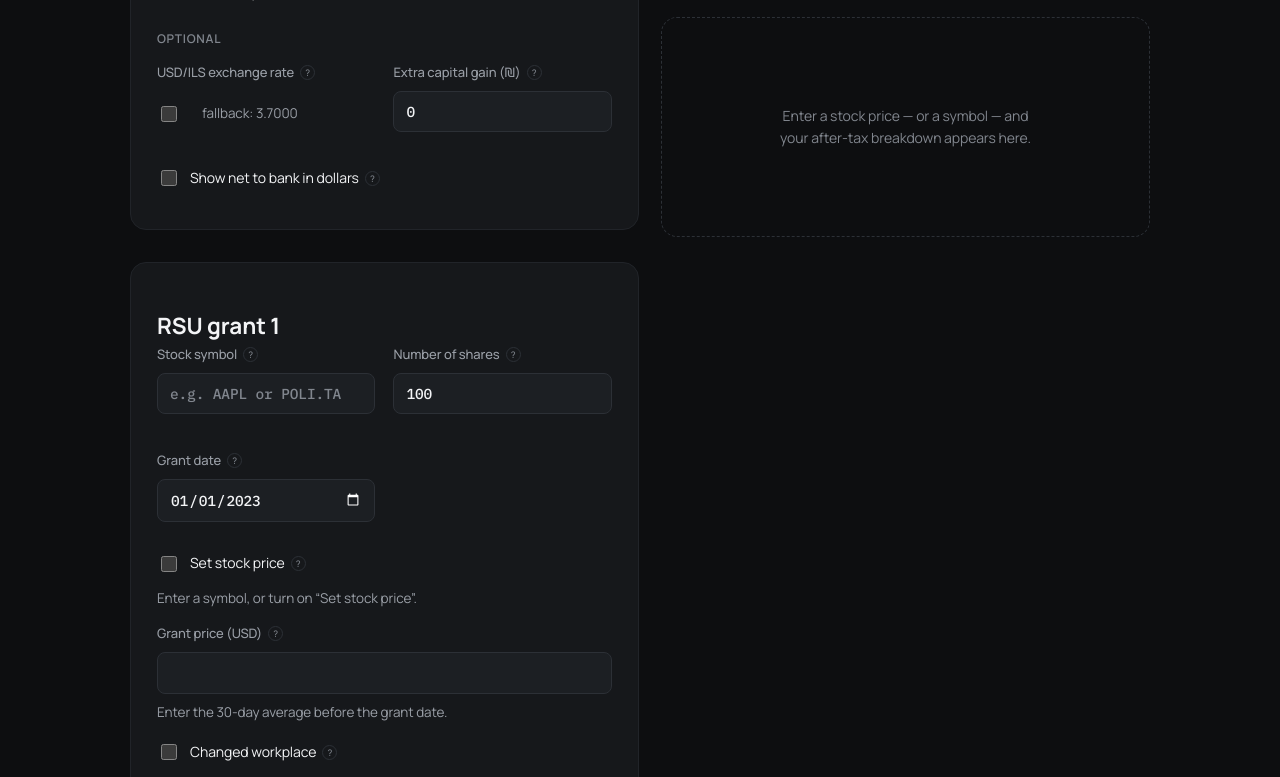
RSU: live price fetch fails › drops the price and the result as soon as the symbol is cleared
(page scrolled)
Step 1. Type "WIX" into the field labelled "Stock symbol" → (266, 394), box [157,373,376,414]
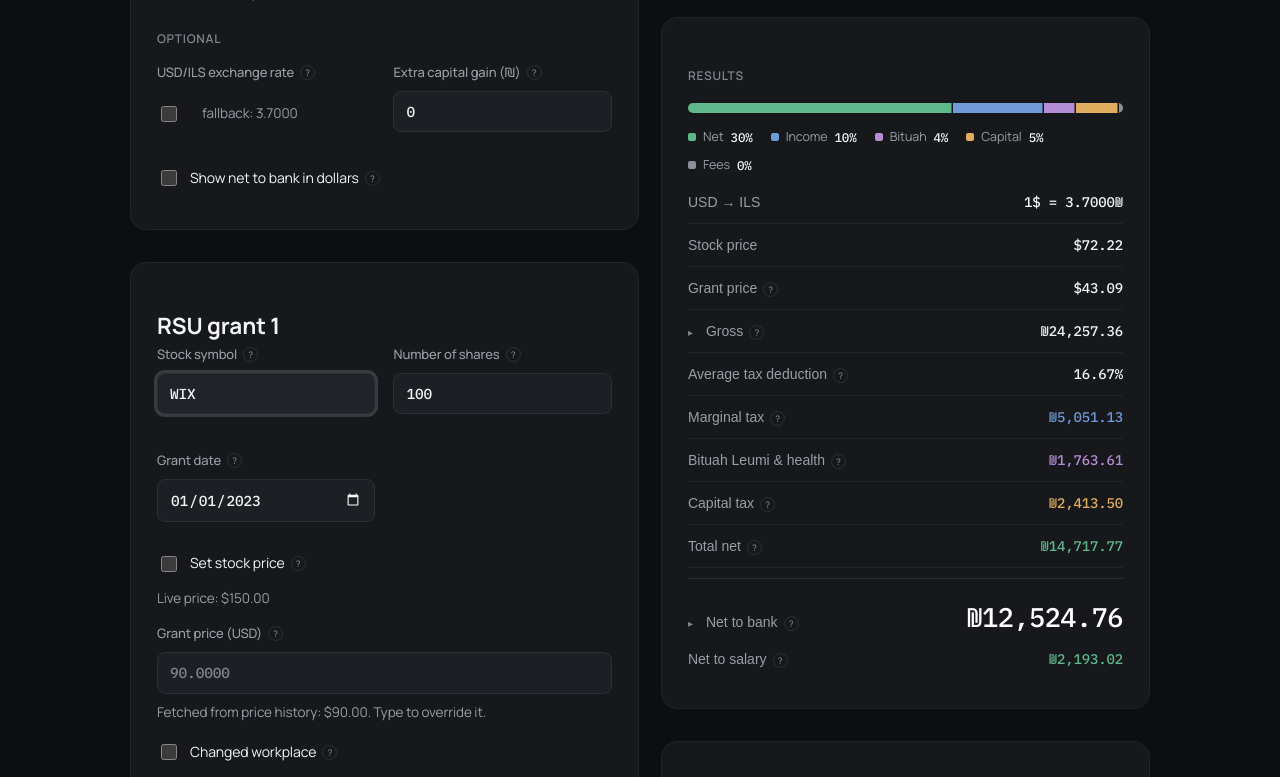
Expected: the text "Net to bank" is shown, [706,614,778,630]
Step 2. Clear the field labelled "Stock symbol" → (266, 394), box [157,373,376,414]
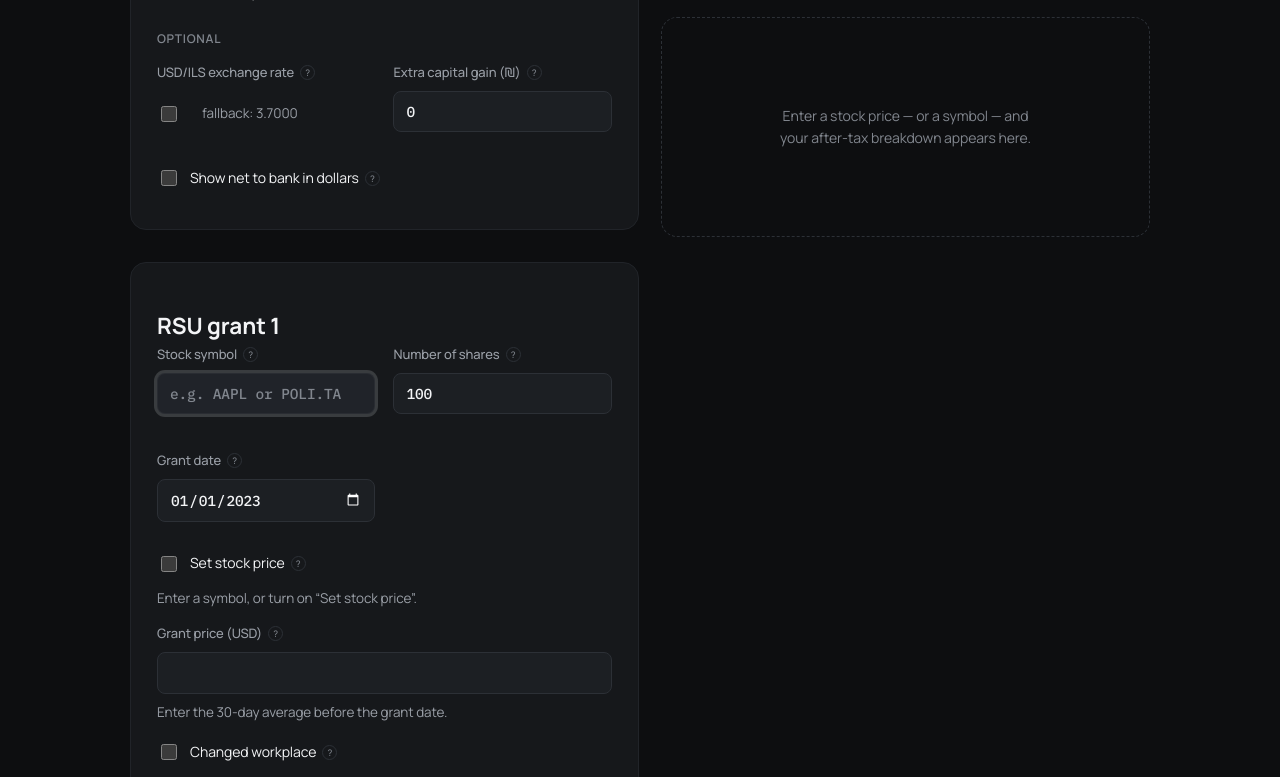
Expected: the message reads "Enter a symbol, or turn on “Set stock price”.", [157,589,417,607]
